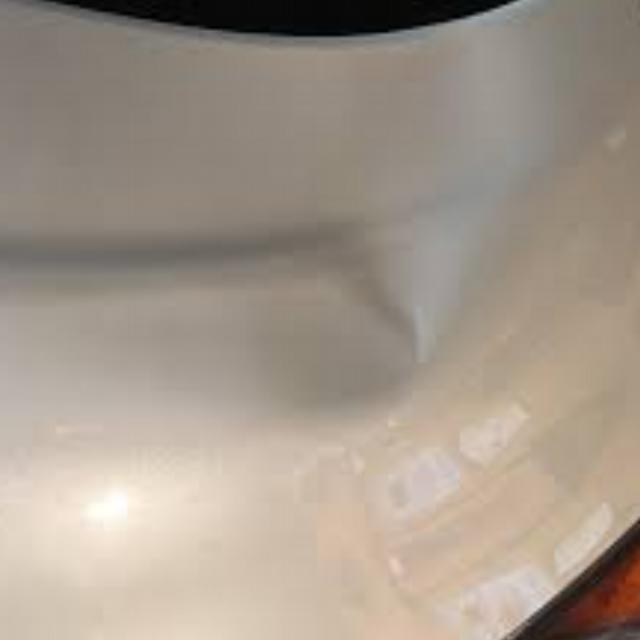dents: (354, 256, 431, 374), (587, 110, 640, 176)
